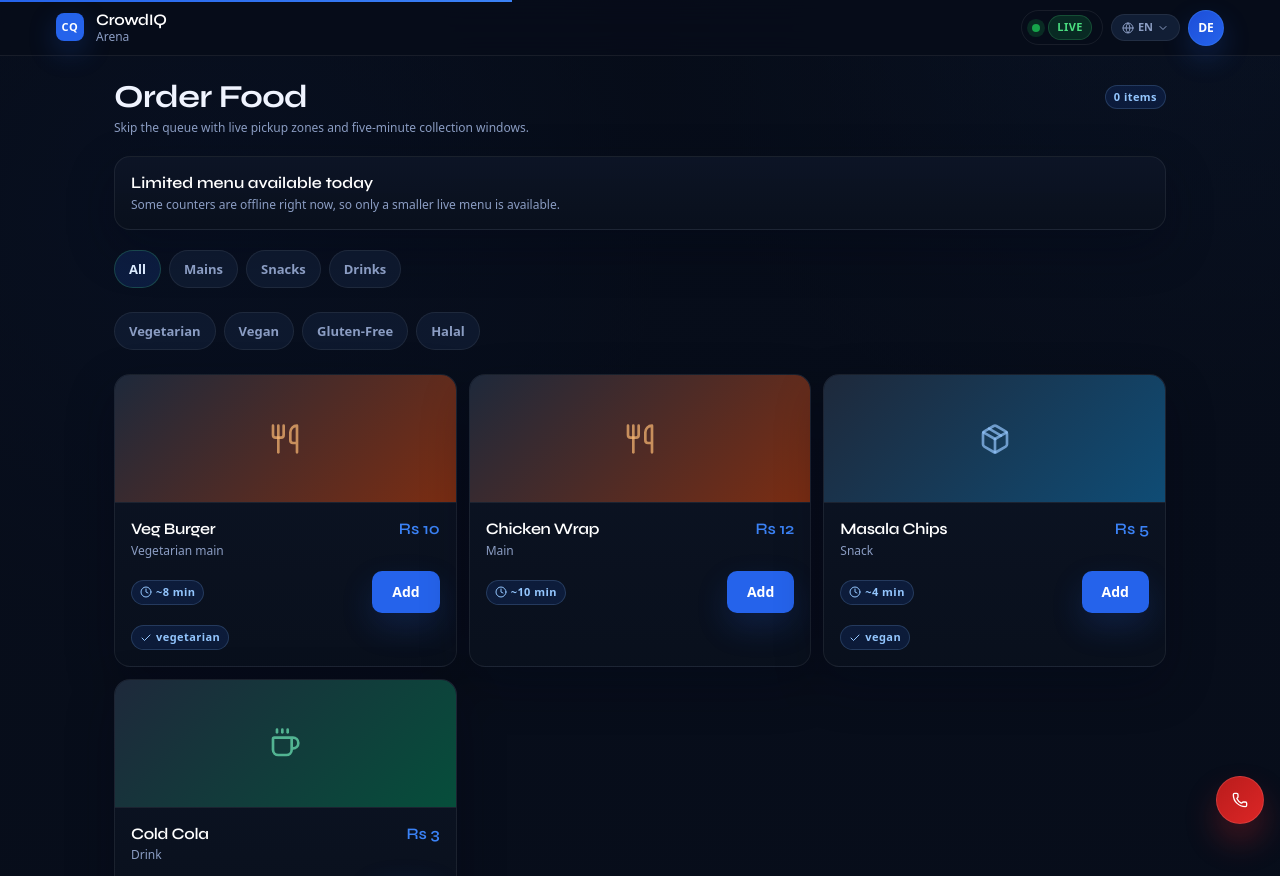
Test case: OrderPage › shows the cart FAB after adding an item
Click the button "Add" in the row of "~8 min": (406, 592) [372,571,440,613]
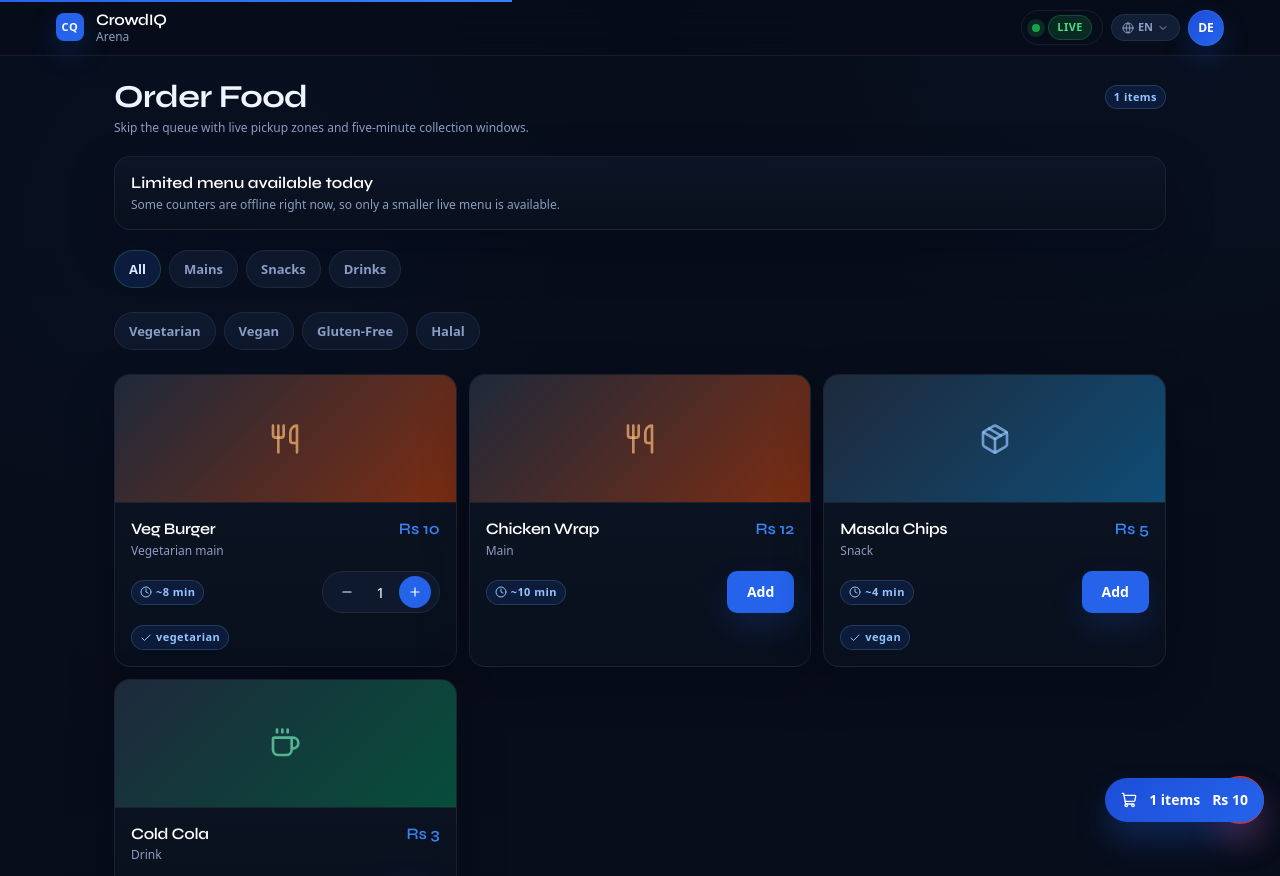
Now the button with aria-label "open cart with 1 items" is shown, box [1105,778,1264,822]
